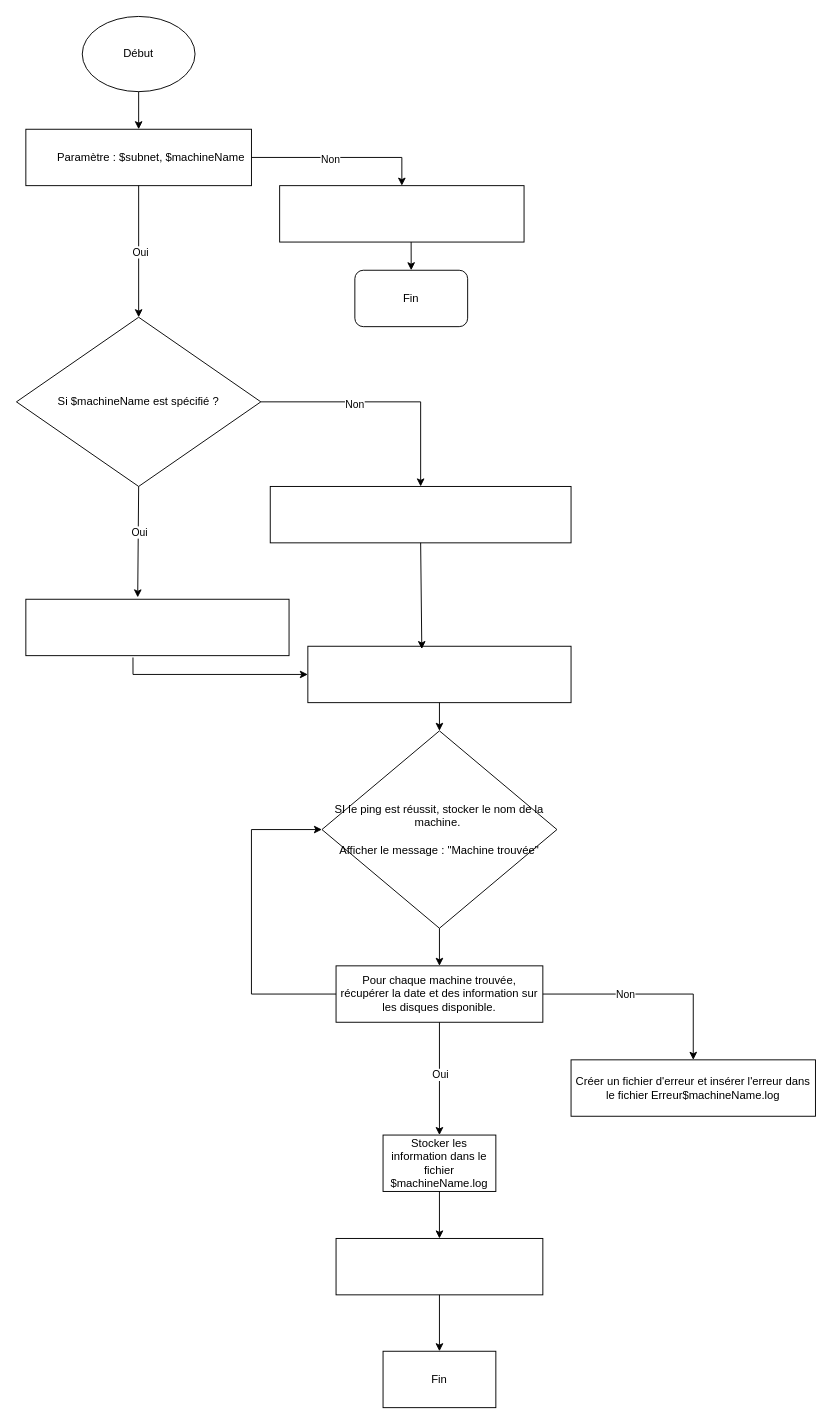
Image size: 832x1424. Some labels were removed from this diagram. The box of each missing label's shape, as (x1, y1, x2, y2) in pixels:
Afficher le message : Veuillez spécifier le sous-réseau avec l'option -Subnet.: (279, 185, 524, 242)
Créer le fichier $machineName.log sur le disque C de la machine actuelle: (335, 1238, 543, 1295)
Pinger tous les adresses qui sont sur le sous-réseau: (307, 645, 571, 703)
Rechercher tous les machines qui sont sur le sous-réseau: (269, 486, 571, 543)
Utiliser $machineName et chercher que les machine qui sont demandées.: (25, 598, 289, 656)
